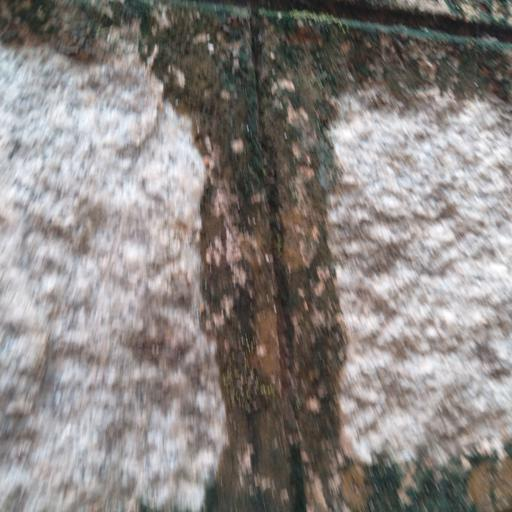algae: (32, 0, 421, 512)
